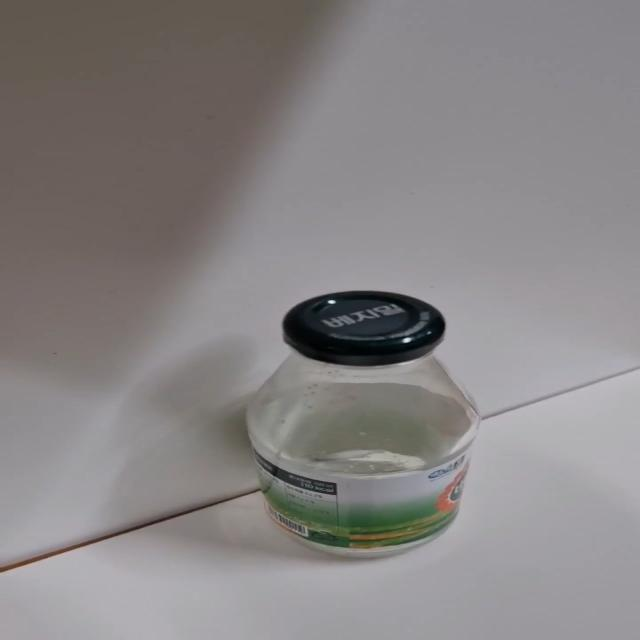Glass: (236, 287, 484, 558)
